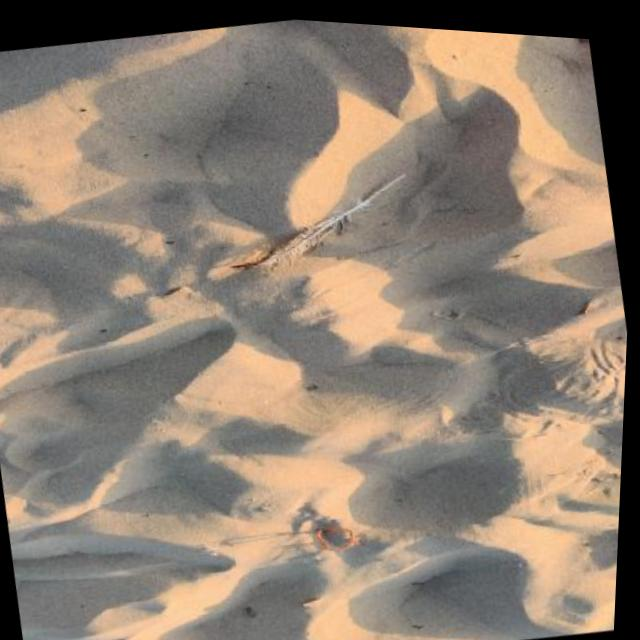other: (314, 522, 363, 557)
